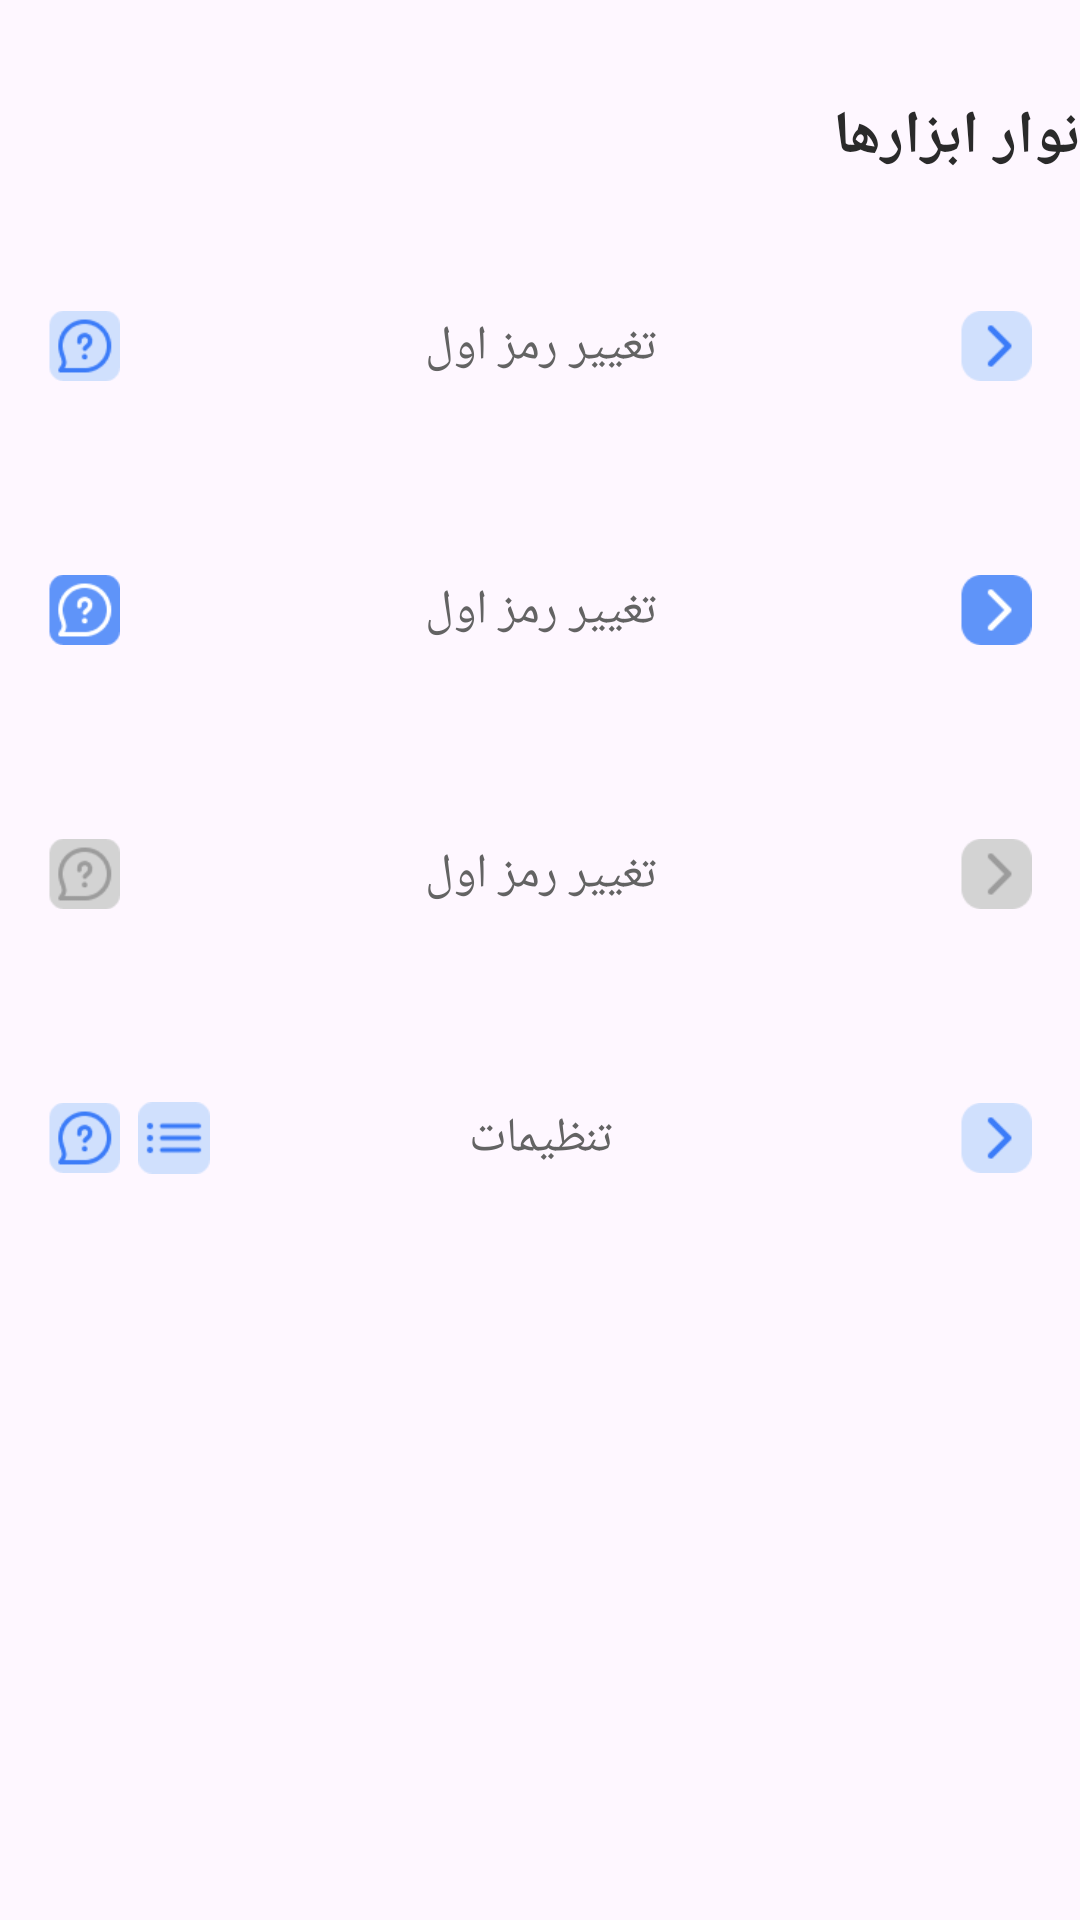

Where icons sit on this 1080w x 1920h app screen, as region(x1, y1, x2, y2):
faq: region(50, 311, 120, 381), region(49, 575, 120, 645), region(50, 839, 120, 909), region(50, 1103, 120, 1173)
menu: region(138, 1102, 210, 1174)
